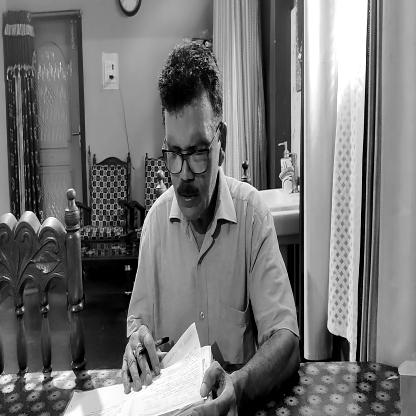Normal: (158, 43, 221, 228)
